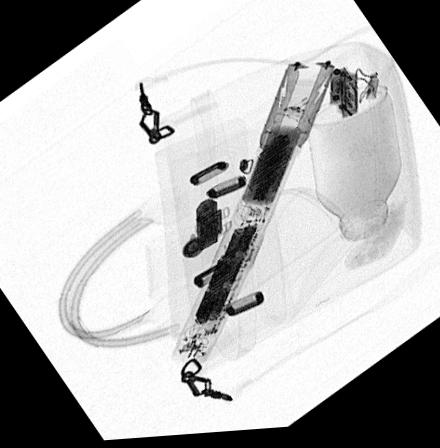Baton: (167, 62, 336, 374)
